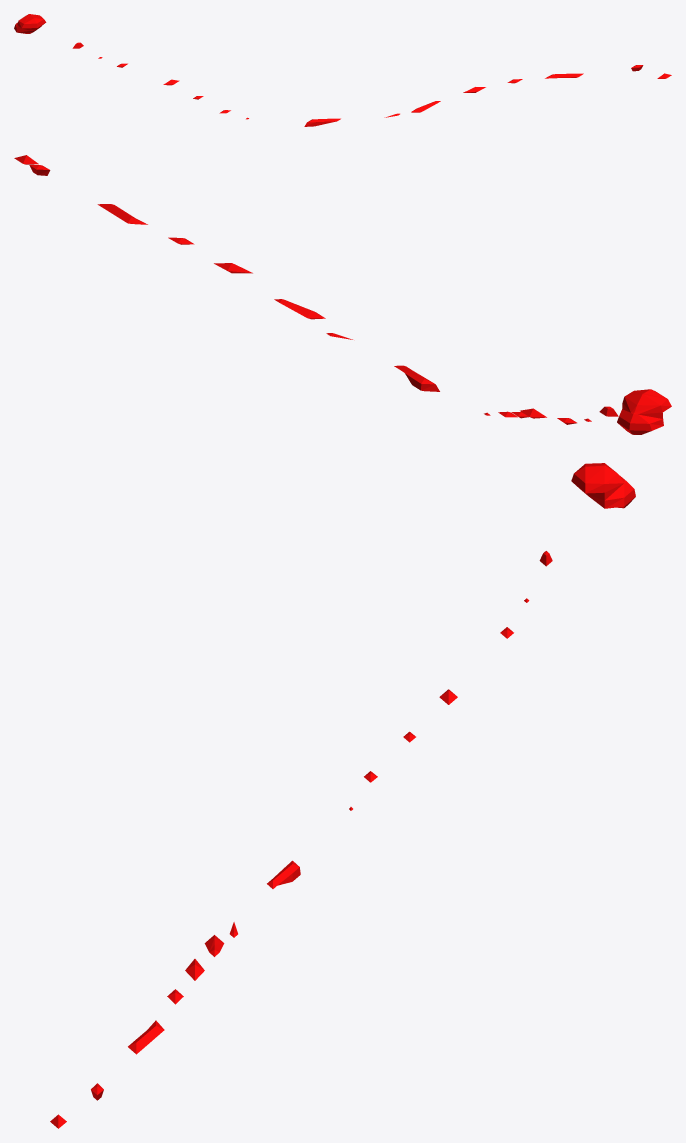
File: tolA_coarse.dae
The picture shows the model from 3 angles, top to bottom: view 1: azimuth 30°, elevation 25°; view 2: azimuth 150°, elevation 25°; view 3: azimuth 270°, elevation 25°; orthographic projection. The views are drawn at different scales.
Visible parts, largest first — view 1: tolA; view 2: tolA; view 3: tolA.
Boxes of the visible parts, <box> form: tolA: <box>14,14,671,126</box>; tolA: <box>14,155,671,434</box>; tolA: <box>50,463,635,1128</box>.
Size of the model in its own units: 853 by 166 by 417.
